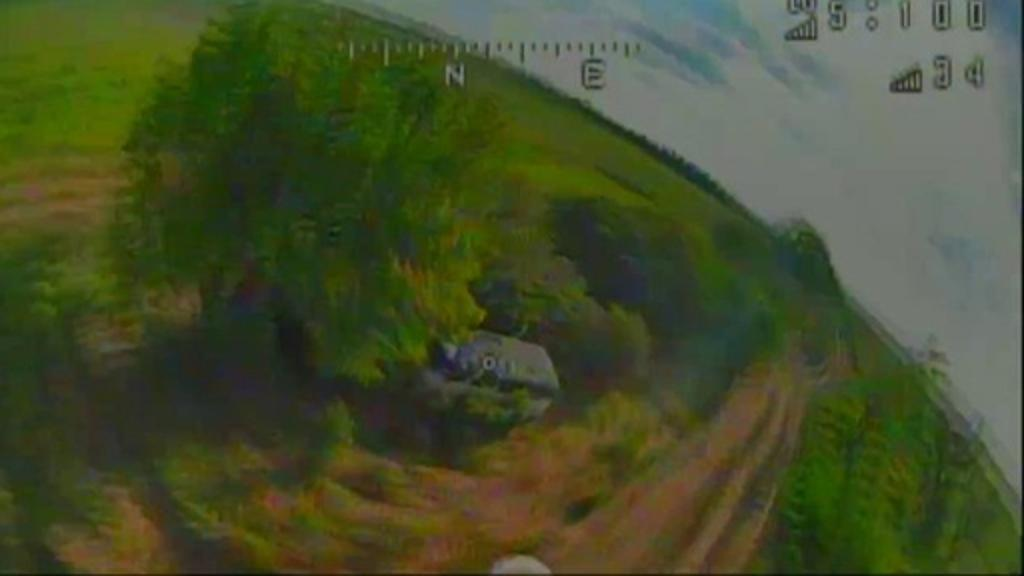CAR: (398, 318, 562, 428)
